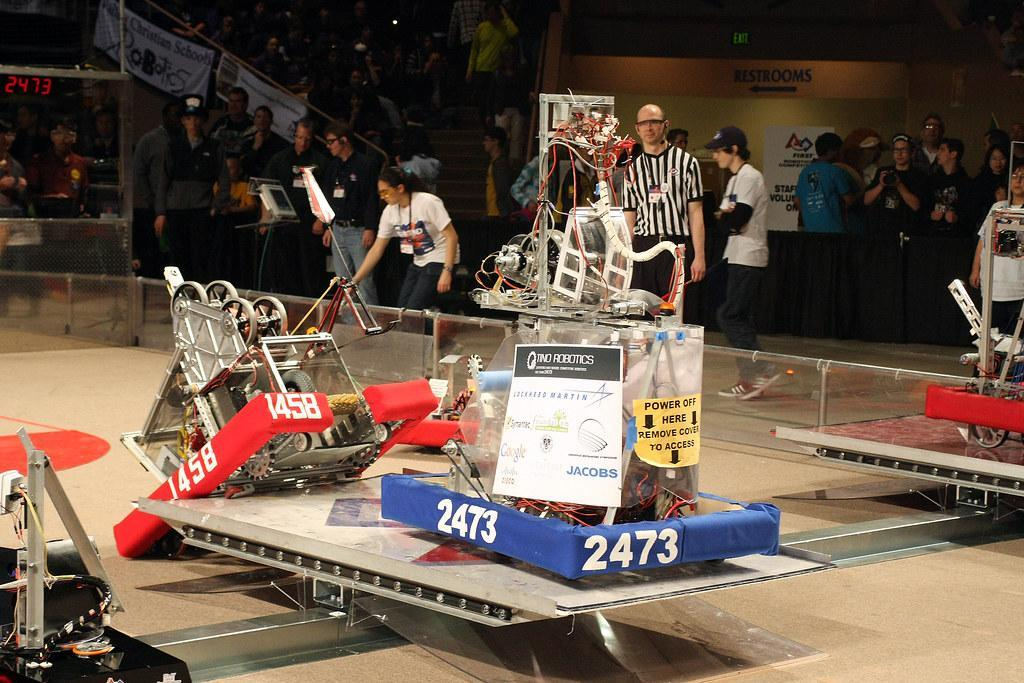robot: (382, 82, 787, 595), (107, 152, 439, 576), (386, 224, 664, 463), (0, 416, 206, 683), (919, 126, 1024, 462)
